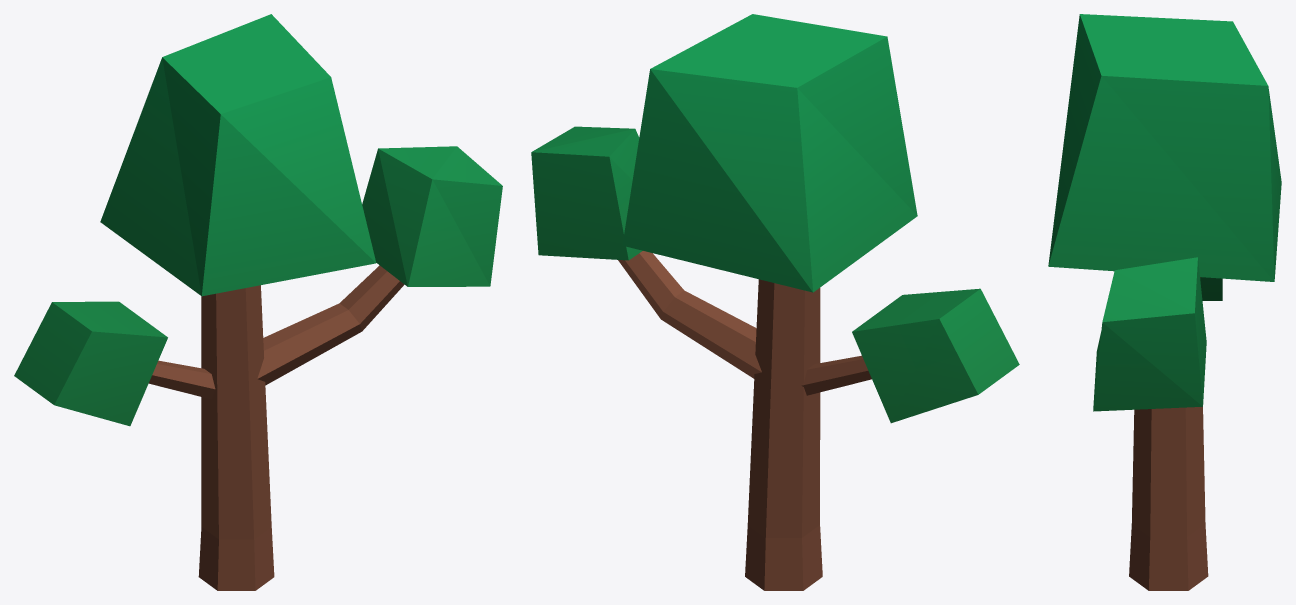
Rendered from Tree_44_gradient_green_vc.fbx.
3 renders of one model, left to right at view 1: azimuth 30°, elevation 25°; view 2: azimuth 150°, elevation 25°; view 3: azimuth 270°, elevation 25°, orthographic. The views are drawn at different scales.
Parts seen in each view (by area): view 1: Tree_44_gradient_green_vc; view 2: Tree_44_gradient_green_vc; view 3: Tree_44_gradient_green_vc.
Part boxes in pixels (<box>): Tree_44_gradient_green_vc: <box>14,14,502,590</box>; Tree_44_gradient_green_vc: <box>531,14,1019,590</box>; Tree_44_gradient_green_vc: <box>1048,14,1281,590</box>.
Bounding box in the file's own units: 162 × 179 × 70.99.
